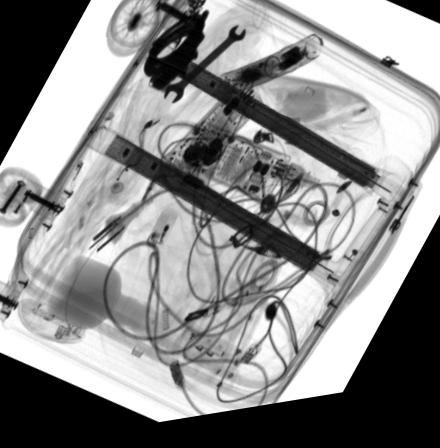Baton: (213, 42, 321, 109)
HandCuffs: (141, 15, 208, 95)
Wrench: (162, 29, 245, 108)
